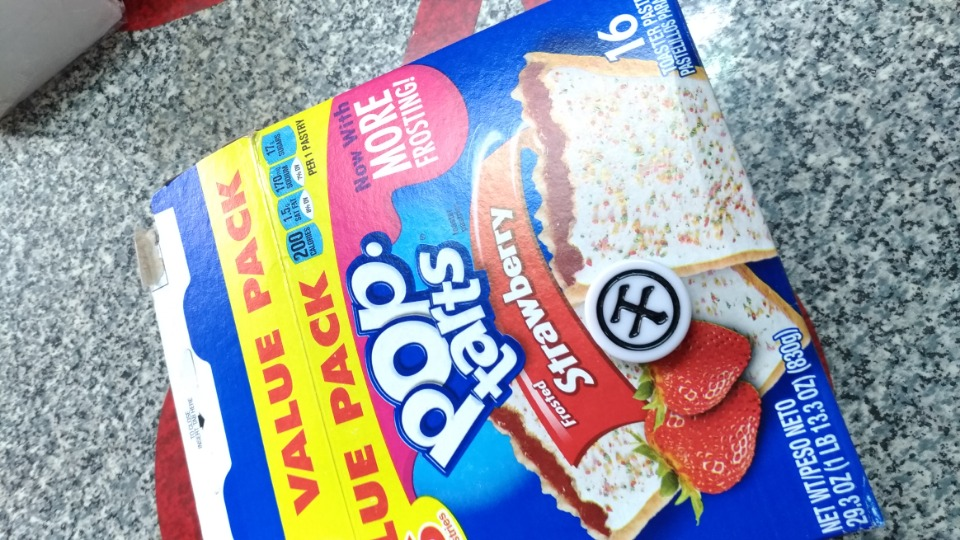b-advisor: (573, 249, 721, 377)
